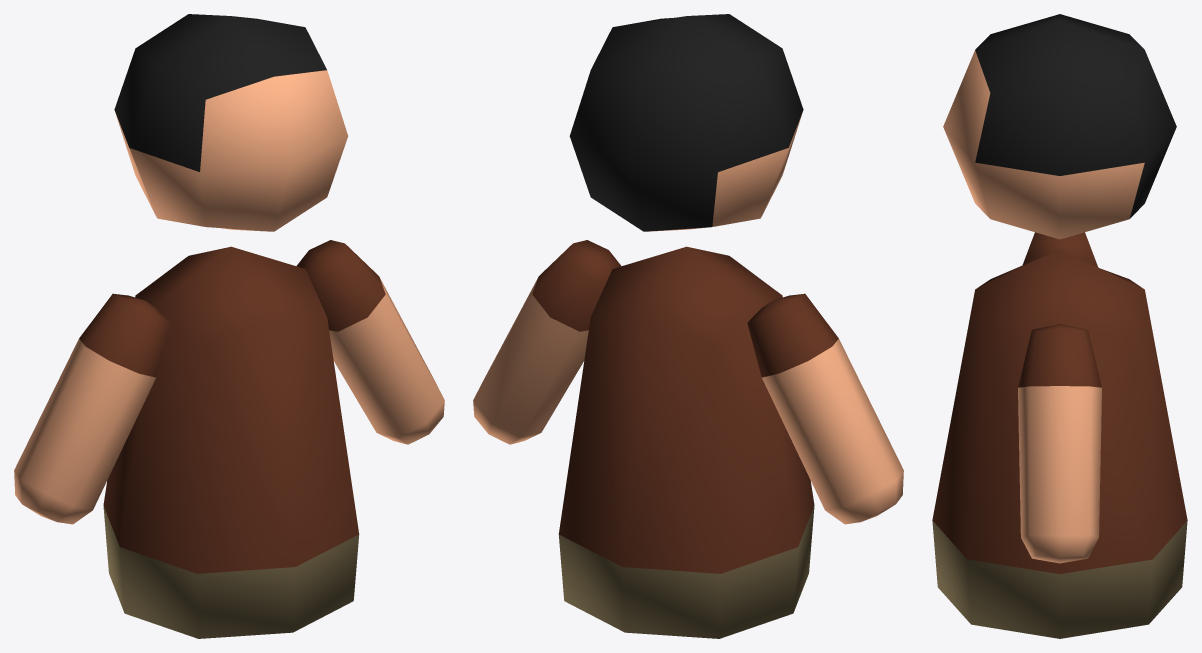
File: Dude_1.fbx
3 views of the same model, side by side, from view 1: azimuth 30°, elevation 25°; view 2: azimuth 150°, elevation 25°; view 3: azimuth 270°, elevation 25° (orthographic).
Parts seen in each view (by area): view 1: Dude_1; view 2: Dude_1; view 3: Dude_1.
Part boxes in pixels (box(x1,y1,x2,y2)): Dude_1: box(14, 14, 444, 638); Dude_1: box(473, 14, 903, 638); Dude_1: box(932, 14, 1187, 638).
Size of the model in its own units: 341 by 466 by 183.
